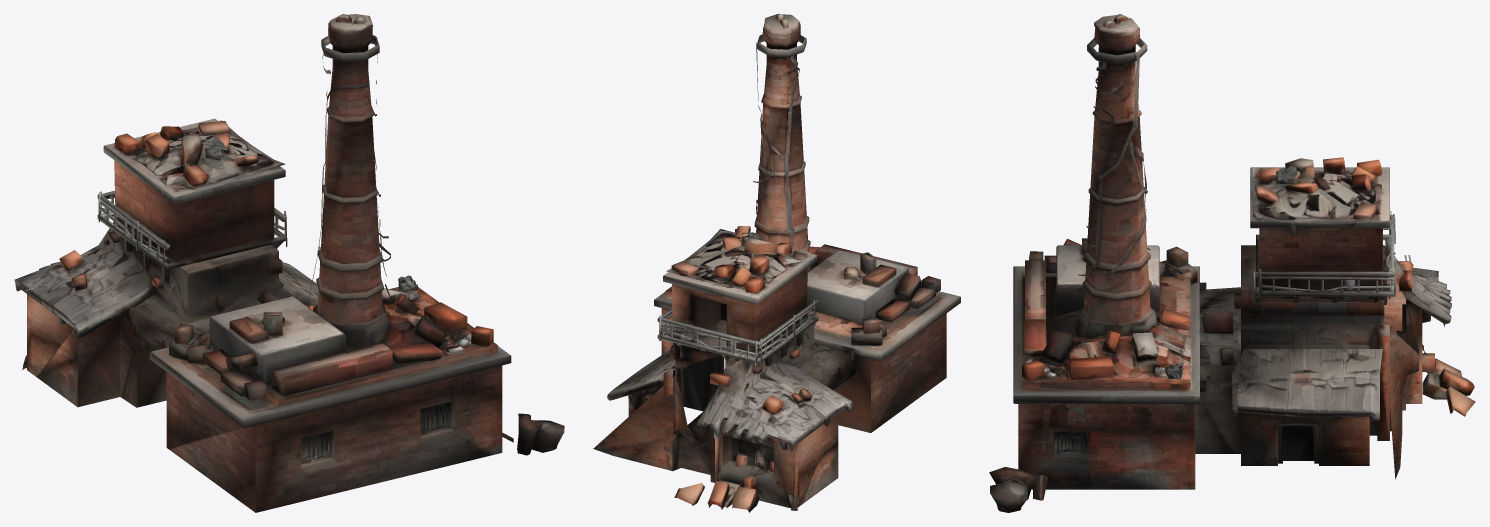
Rendered from site-brick-factory.glb.
The picture shows the model from 3 angles, left to right: view 1: azimuth 30°, elevation 25°; view 2: azimuth 150°, elevation 25°; view 3: azimuth 270°, elevation 25°; orthographic projection. The views are drawn at different scales.
Parts seen in each view (by area): view 1: site-brick-factory; view 2: site-brick-factory; view 3: site-brick-factory.
Part boxes in pixels (x1,y1,x2,y2): site-brick-factory: (14,14,564,512); site-brick-factory: (593,14,960,512); site-brick-factory: (989,14,1475,512).
Size of the model in its own units: 0.7446 by 0.8815 by 0.9204.
1 material, 1 textured.
